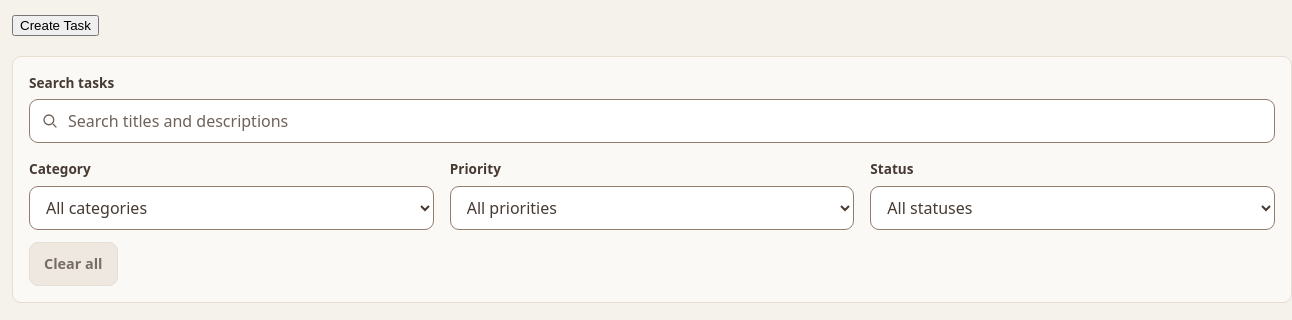
keeps desktop labels, search and reset native without a static ordering placeholder
expect the number of dropdowns is 3: met, box left=29, top=186, right=434, bottom=230; left=450, top=186, right=854, bottom=230; left=870, top=186, right=1275, bottom=230
expect the button with aria-label "Clear all search and filters" is disabled: met, box left=29, top=242, right=118, bottom=286
Type "work" into the search field labelled "Search tasks" at (652, 121), box left=29, top=99, right=1275, bottom=143
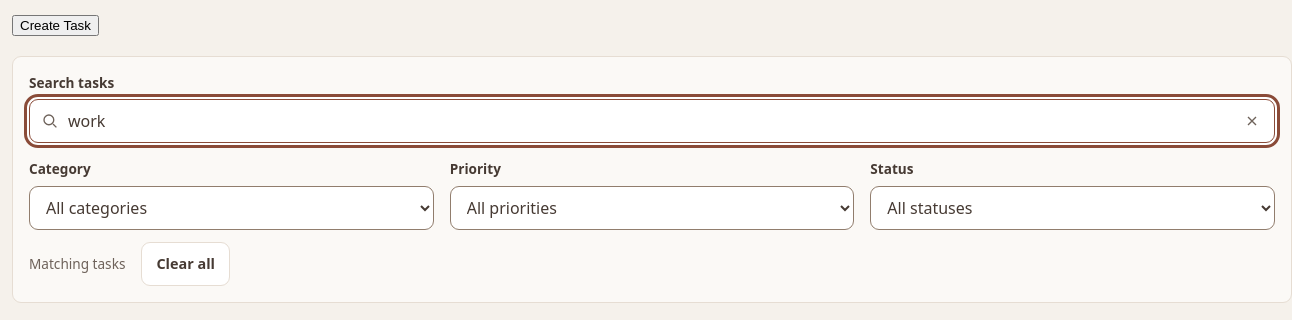
Click the button with aria-label "Clear all search and filters" at (186, 264), box left=141, top=242, right=230, bottom=286
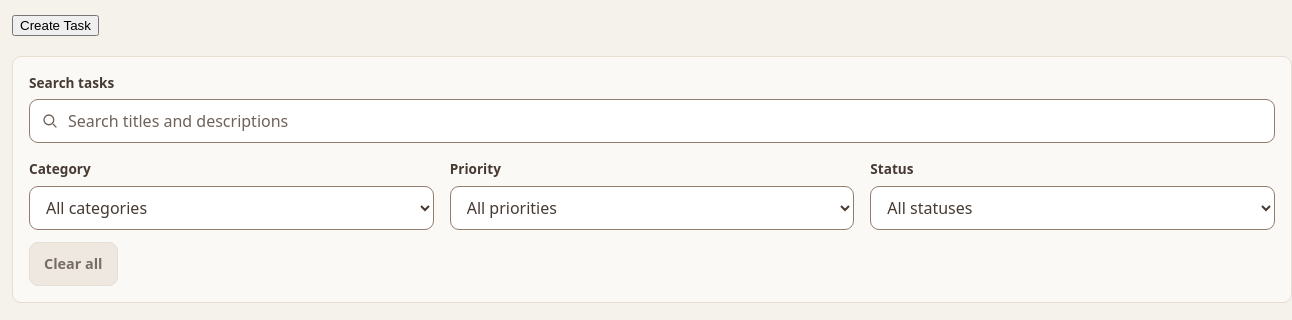
expect the search field labelled "Search tasks" is empty: met, box left=29, top=99, right=1275, bottom=143
